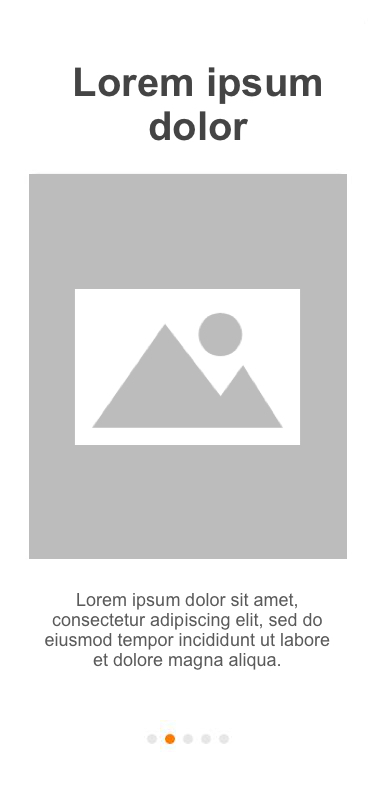Image: (30, 174, 348, 560)
PageIndicator: (147, 733, 231, 745)
Text: (45, 592, 330, 671), (74, 67, 323, 142)
